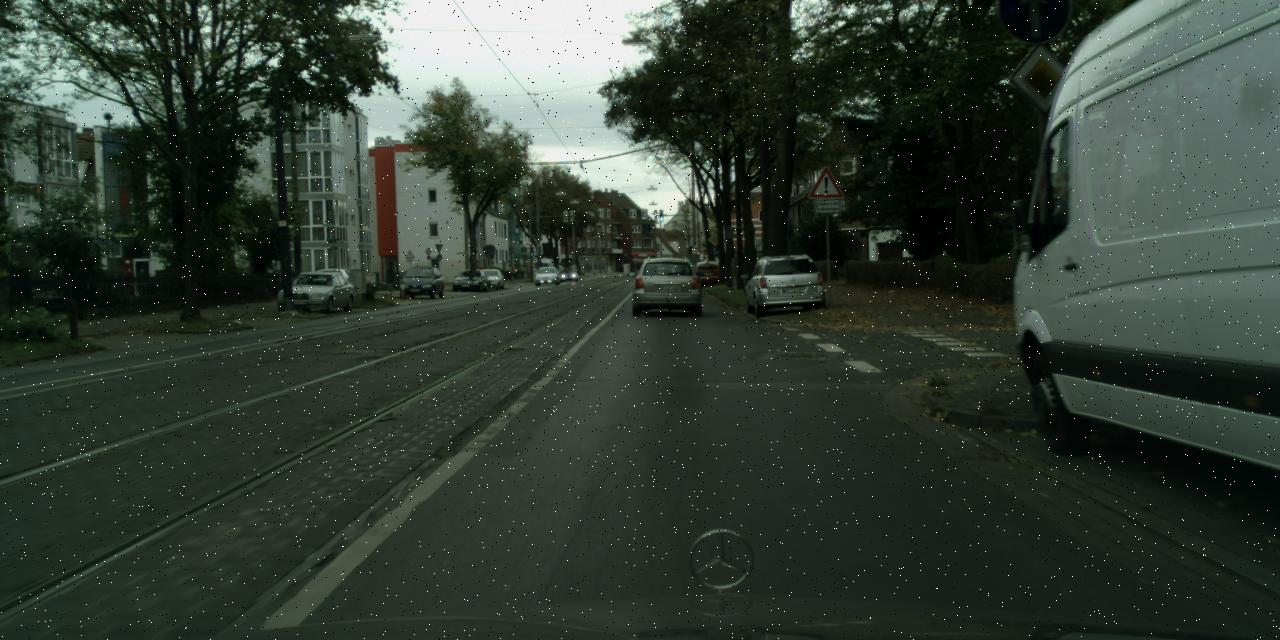ped: (509, 263, 515, 279)
